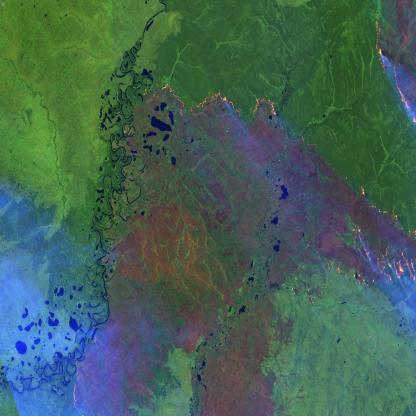fire: (348, 174, 416, 298), (124, 76, 288, 122), (369, 8, 416, 129)
